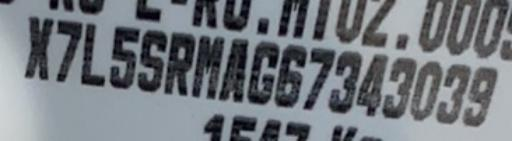letter: (300, 46, 336, 109), (328, 50, 362, 115), (355, 53, 389, 116), (163, 30, 195, 95), (274, 43, 306, 108), (382, 57, 416, 118), (436, 63, 470, 124), (463, 65, 497, 126), (192, 35, 224, 98), (247, 40, 279, 103), (54, 17, 84, 84), (137, 27, 167, 94), (410, 59, 442, 120), (24, 16, 54, 81), (109, 25, 139, 88), (218, 37, 248, 100), (80, 22, 106, 87)
